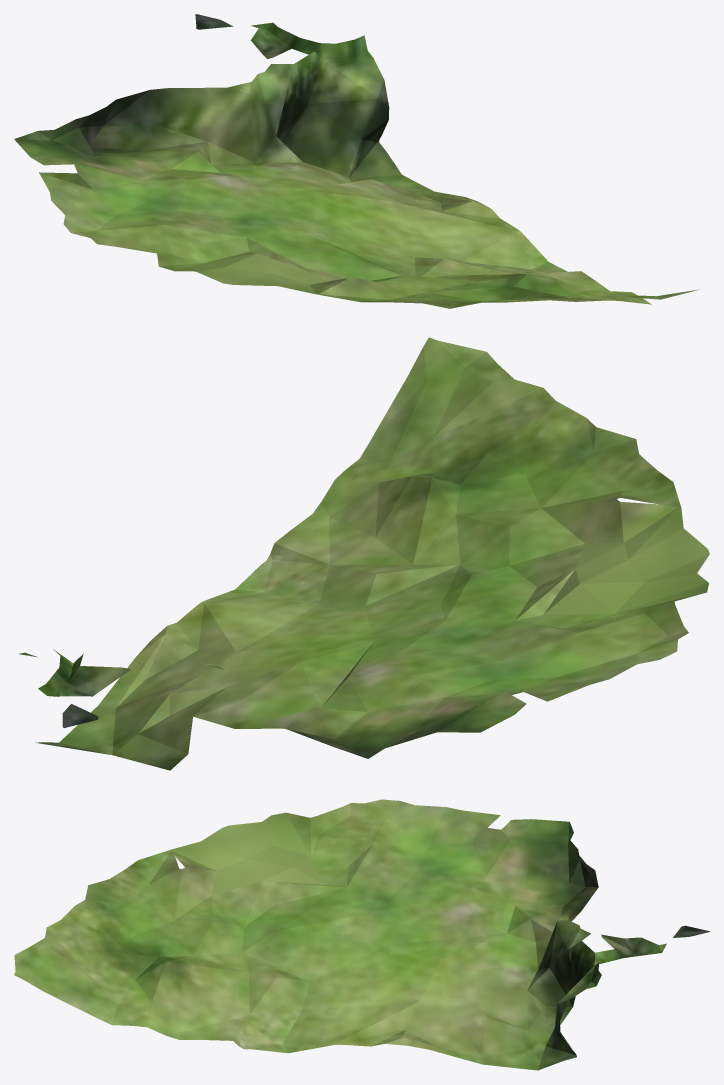
3 renders of one model, top to bottom at view 1: azimuth 30°, elevation 25°; view 2: azimuth 150°, elevation 25°; view 3: azimuth 270°, elevation 25°, orthographic. The views are drawn at different scales.
Bounding box in the file's own units: 10.88 × 2.75 × 18.21.
Materials: 1 (1 with a texture image).
